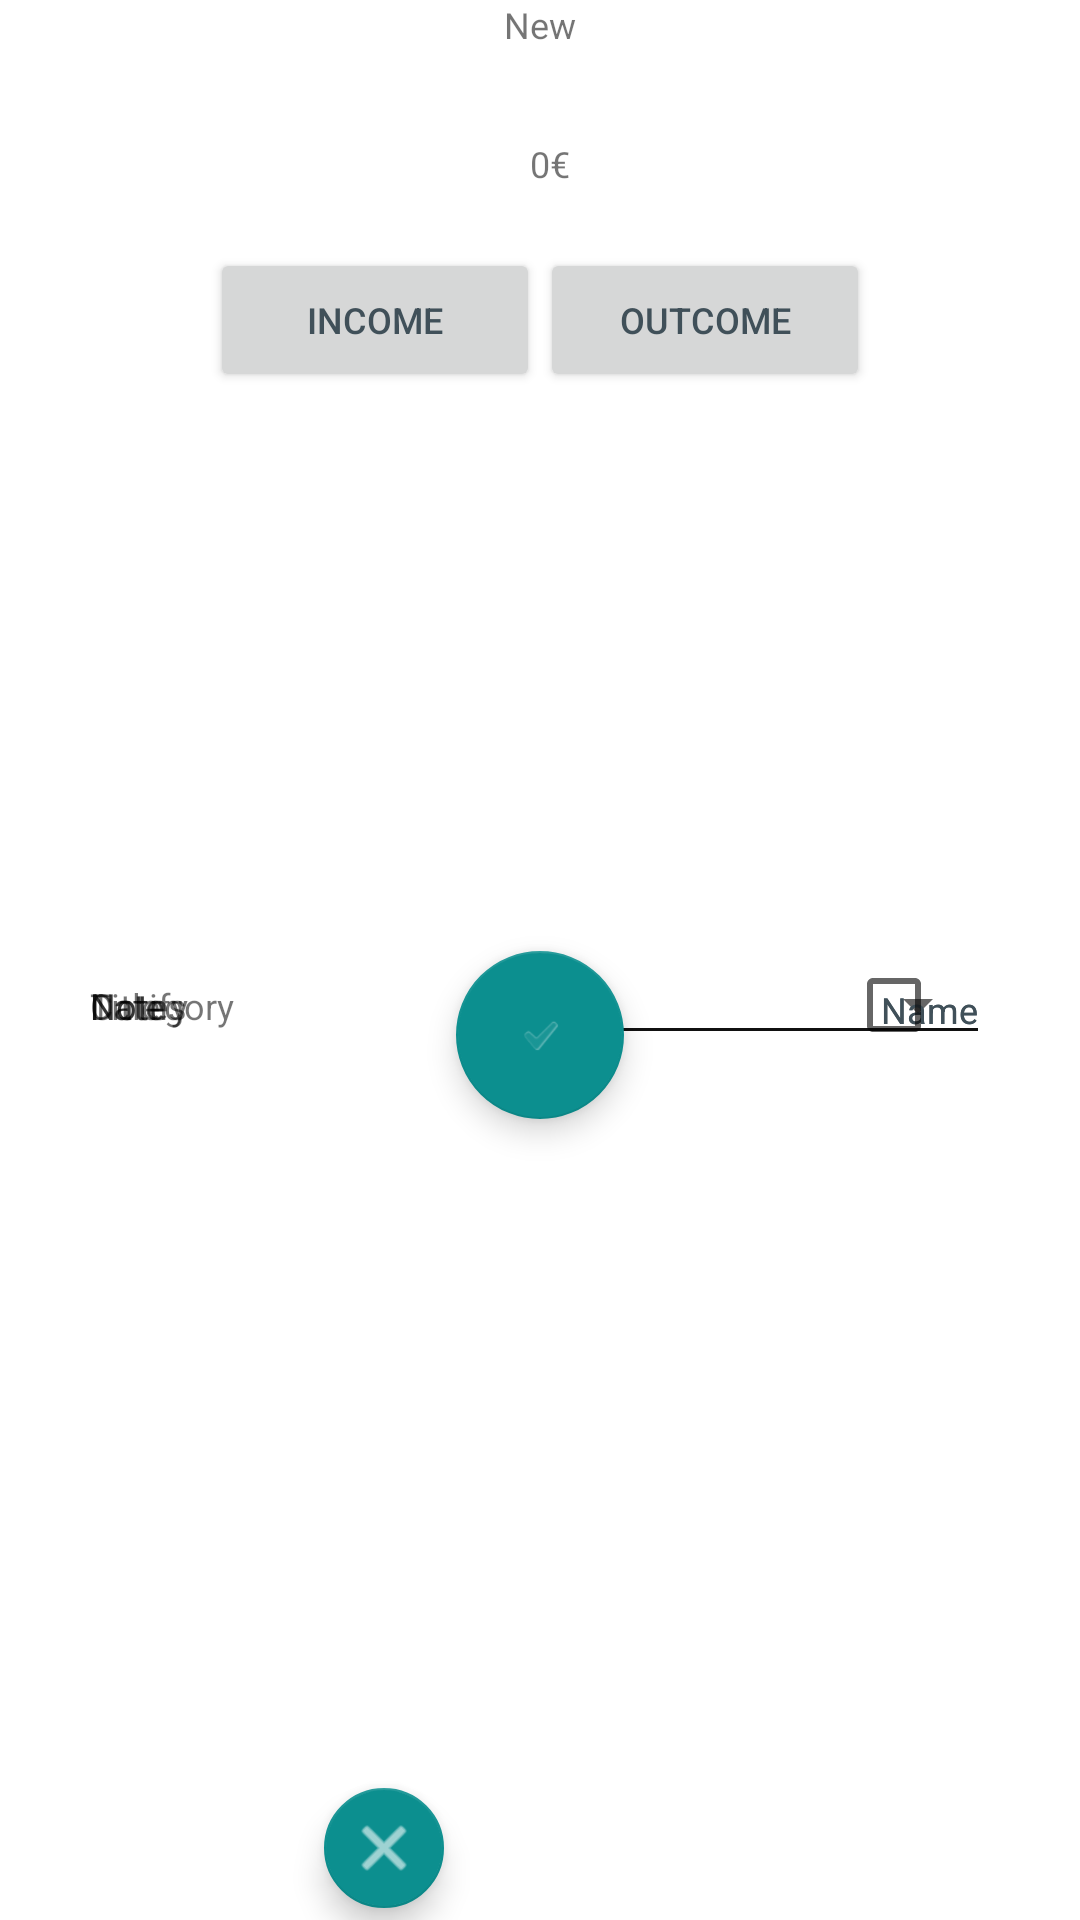

Icons on this 1080*1920 Android screen, each with its box as region(x1, y1, x2, y2):
close clear cancel: region(324, 1788, 444, 1920)
